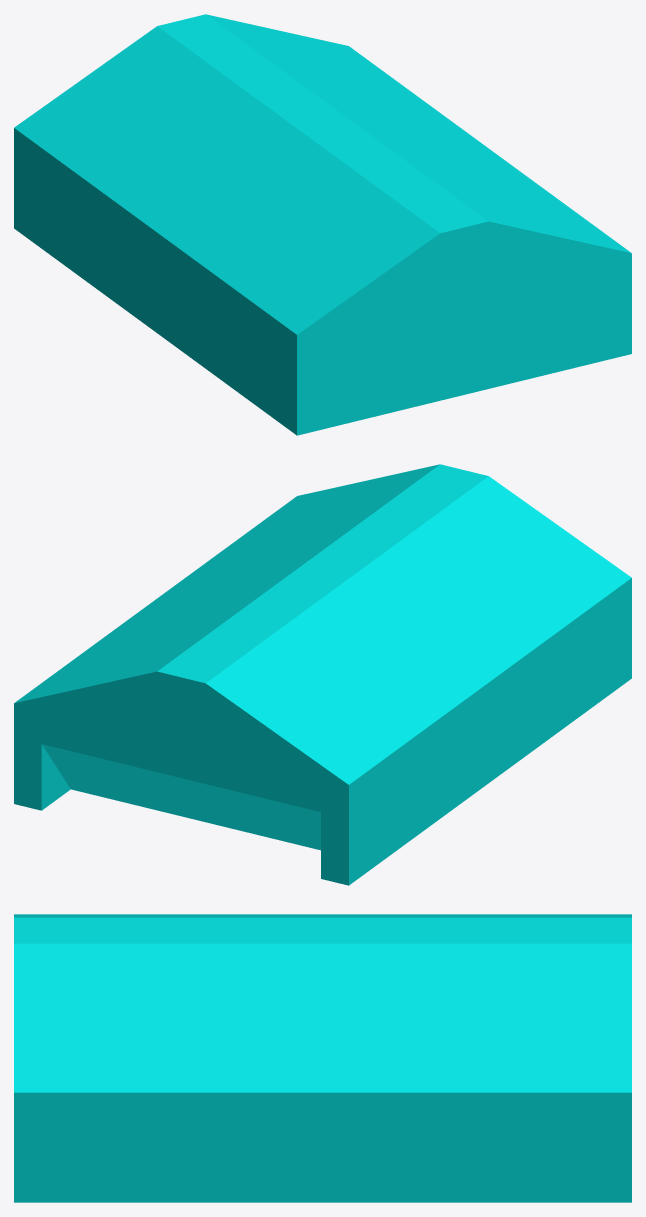
The model's file is ServerrackTop_Modulur.fbx.
3 renders of one model, top to bottom at view 1: azimuth 30°, elevation 25°; view 2: azimuth 150°, elevation 25°; view 3: azimuth 270°, elevation 25°, orthographic. The views are drawn at different scales.
Parts seen in each view (by area): view 1: ServerrackTop_Modulur; view 2: ServerrackTop_Modulur; view 3: ServerrackTop_Modulur.
Part boxes in pixels (x1,y1,x2,y2): ServerrackTop_Modulur: (14,14,631,435); ServerrackTop_Modulur: (14,464,631,885); ServerrackTop_Modulur: (14,914,631,1202).
Size of the model in its own units: 73.98 by 35.34 by 108.
